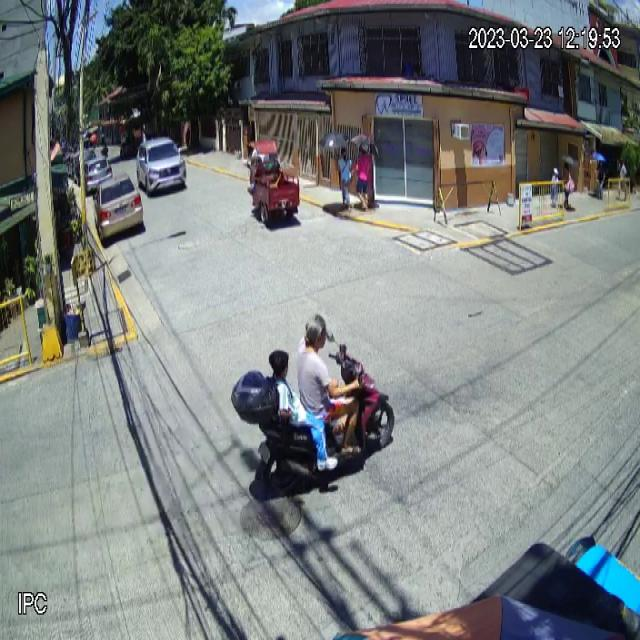Car: (93, 172, 144, 244), (136, 136, 188, 197)
Motorcycle: (230, 329, 396, 497)
